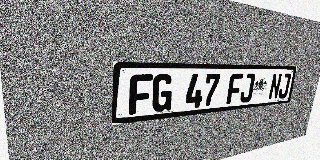4: (185, 74, 205, 109)
7: (202, 74, 221, 107)
F: (129, 74, 153, 115), (226, 74, 243, 104)
G: (151, 74, 174, 113)
J: (239, 74, 256, 103), (278, 73, 291, 99)
N: (268, 73, 282, 100)
